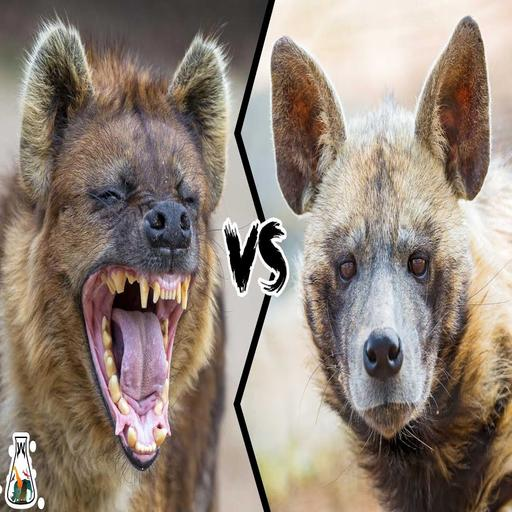Hyena: (268, 15, 512, 508), (0, 21, 242, 512)
